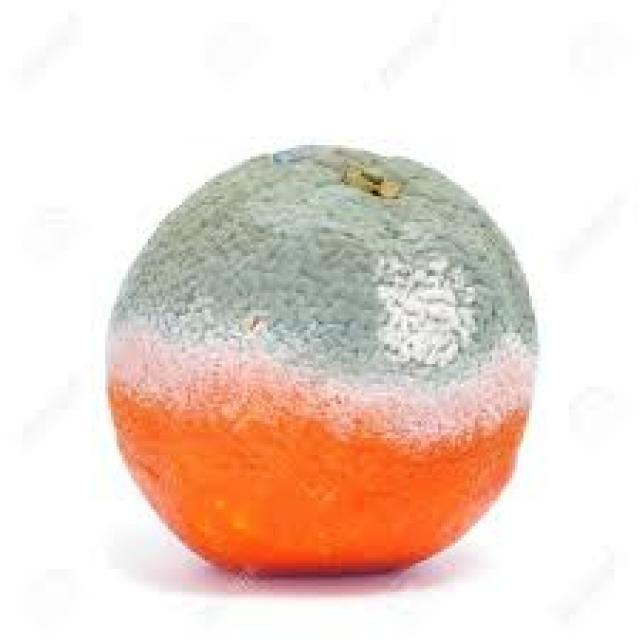Organik: (103, 140, 540, 582)
